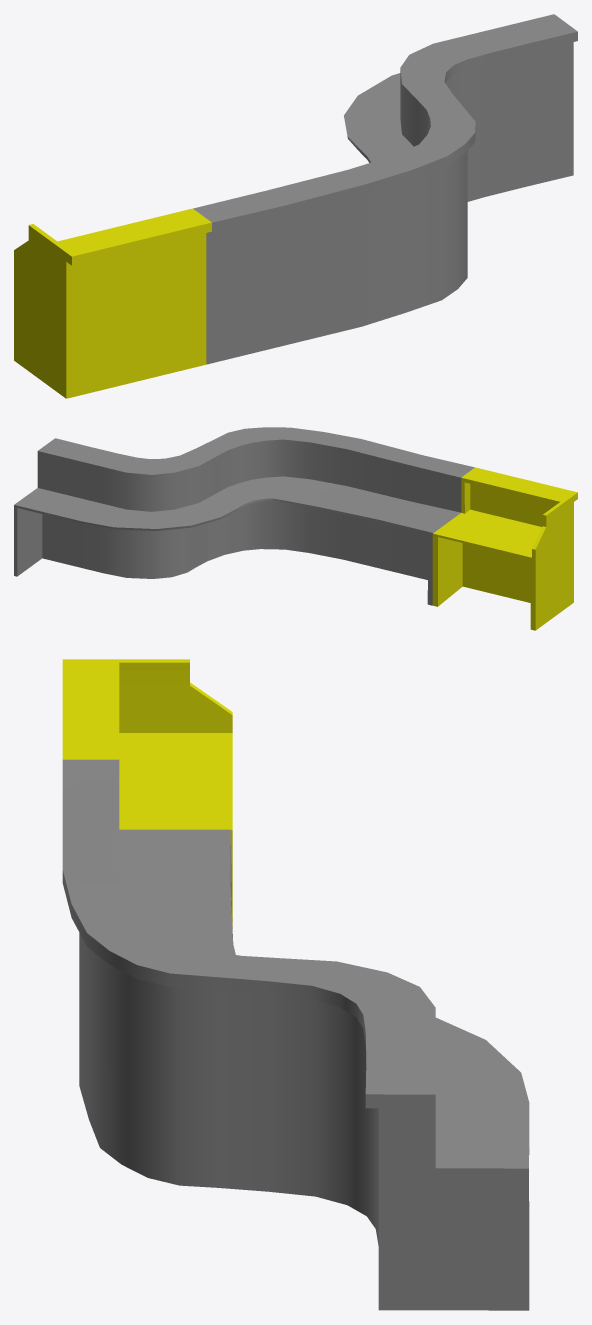
The model's file is ReceptionDesk.fbx.
The picture shows the model from 3 angles, top to bottom: view 1: azimuth 30°, elevation 25°; view 2: azimuth 150°, elevation 25°; view 3: azimuth 270°, elevation 25°; orthographic projection. The views are drawn at different scales.
Visible parts, largest first — view 1: ReceptionDesk_Curved, ReceptionDesk_End; view 2: ReceptionDesk_Curved, ReceptionDesk_End; view 3: ReceptionDesk_Curved, ReceptionDesk_End.
Boxes of the visible parts, x1,y1,x2,y2 form: ReceptionDesk_Curved: (193,14,577,364); ReceptionDesk_End: (14,208,211,398); ReceptionDesk_Curved: (14,427,474,605); ReceptionDesk_End: (432,467,577,630); ReceptionDesk_Curved: (62,760,529,1310); ReceptionDesk_End: (62,659,232,925).
Size of the model in its own units: 571 by 132 by 258.
